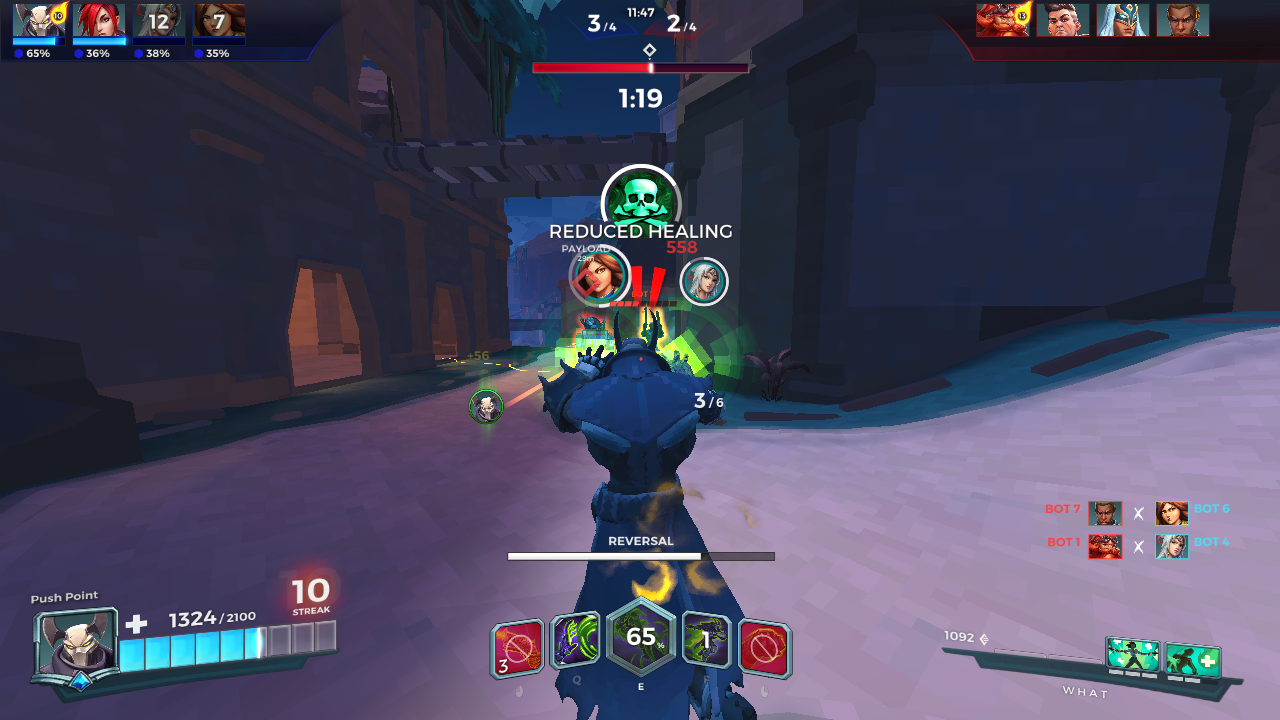model: (639, 316, 664, 362)
